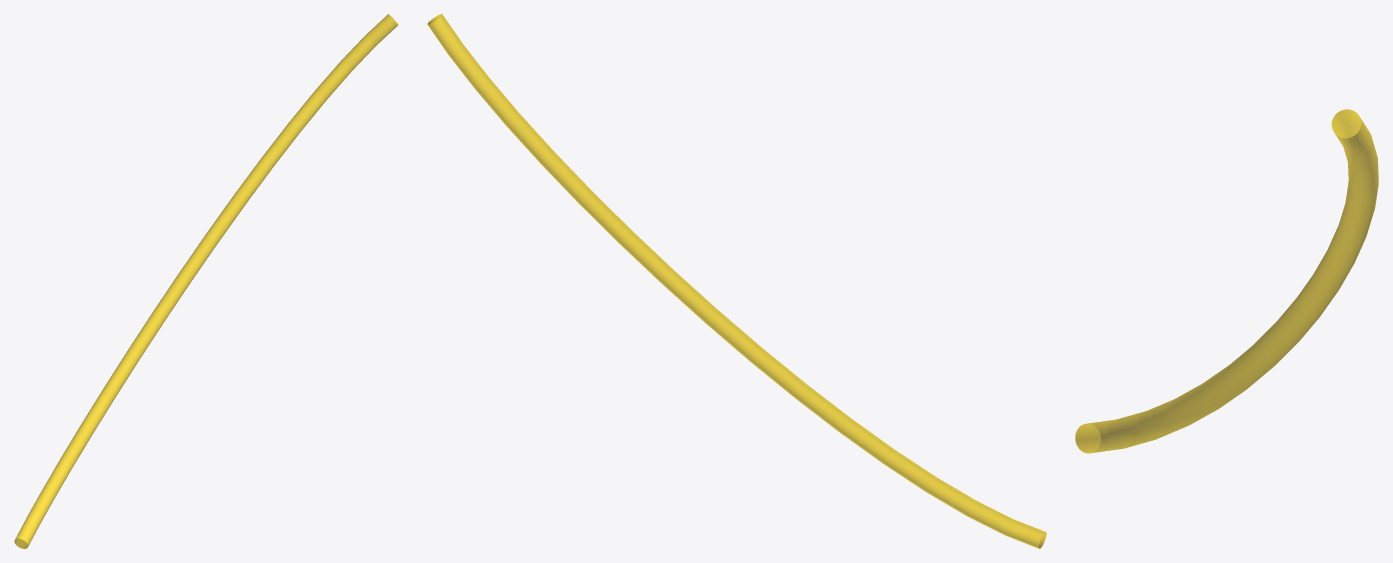
Rendered from Event_100608114_track_118.fbx.
3 views of the same model, side by side, from view 1: azimuth 30°, elevation 25°; view 2: azimuth 150°, elevation 25°; view 3: azimuth 270°, elevation 25° (orthographic). The views are drawn at different scales.
Parts seen in each view (by area): view 1: Model; view 2: Model; view 3: Model.
Boxes of the visible parts, x1=… form: Model: x1=14, y1=14, x2=398, y2=548; Model: x1=427, y1=14, x2=1046, y2=548; Model: x1=1075, y1=109, x2=1378, y2=453.
Bounding box in the file's own units: 1.36 × 1.12 × 0.4026.
